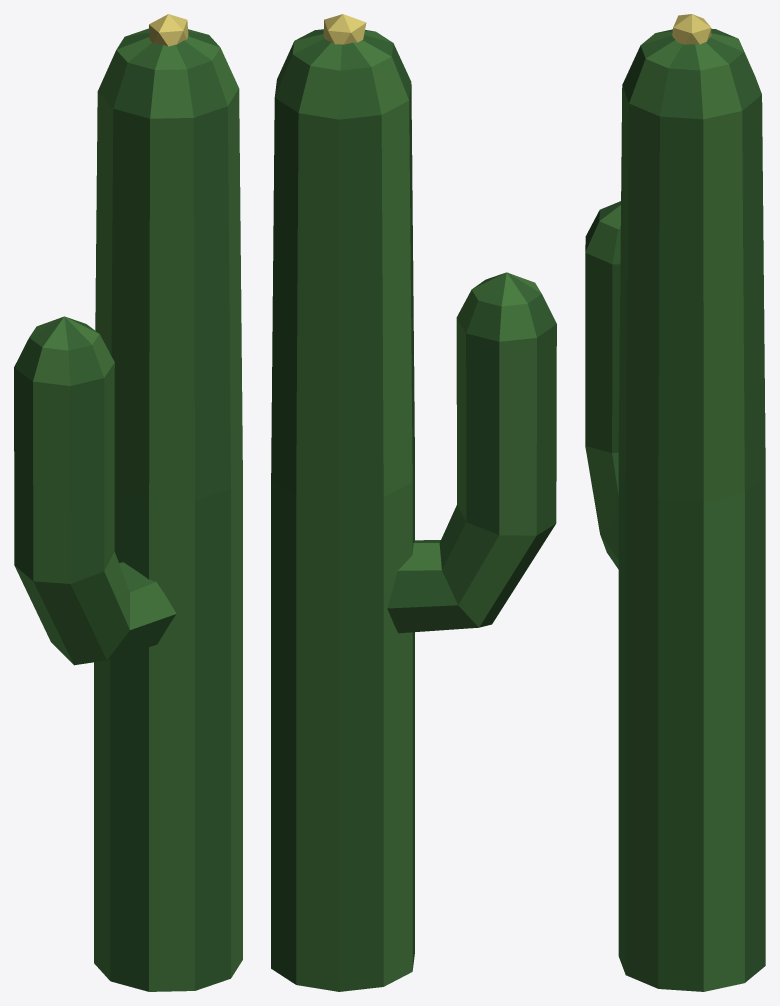
File: Tree_Saguaro_C.glb
3 views of the same model, side by side, from view 1: azimuth 30°, elevation 25°; view 2: azimuth 150°, elevation 25°; view 3: azimuth 270°, elevation 25° (orthographic).
Parts seen in each view (by area): view 1: Tree_Saguaro_C; view 2: Tree_Saguaro_C; view 3: Tree_Saguaro_C.
Boxes of the visible parts, x1,y1,x2,y2 form: Tree_Saguaro_C: [14, 14, 242, 991]; Tree_Saguaro_C: [271, 14, 556, 991]; Tree_Saguaro_C: [585, 14, 765, 991].
Bounding box in the file's own units: 1.03 × 3.91 × 0.6765.
